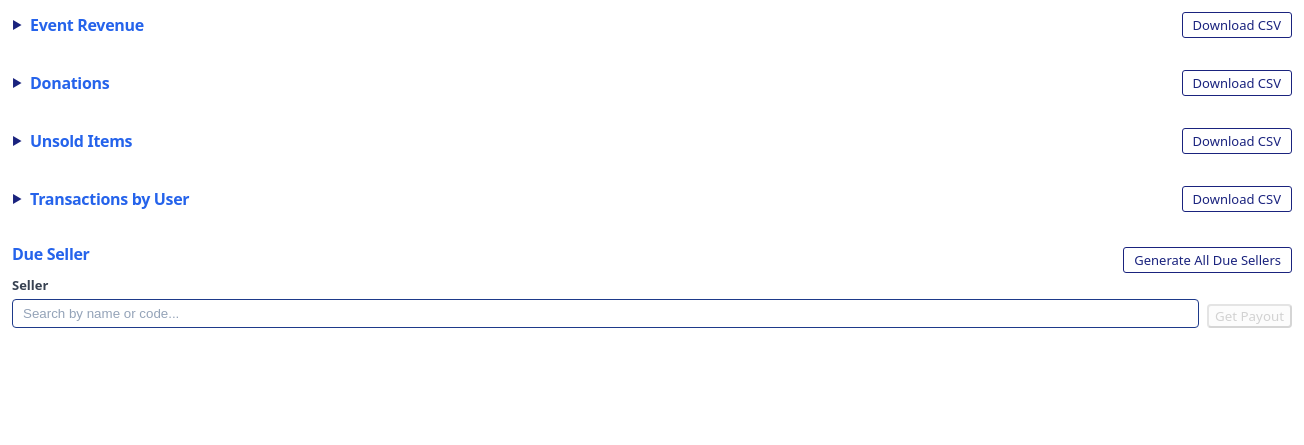
Scenario: ReportsPage › shows donations summary with items
Step 1. Click the heading "Donations" → (70, 83), box [30, 73, 109, 93]
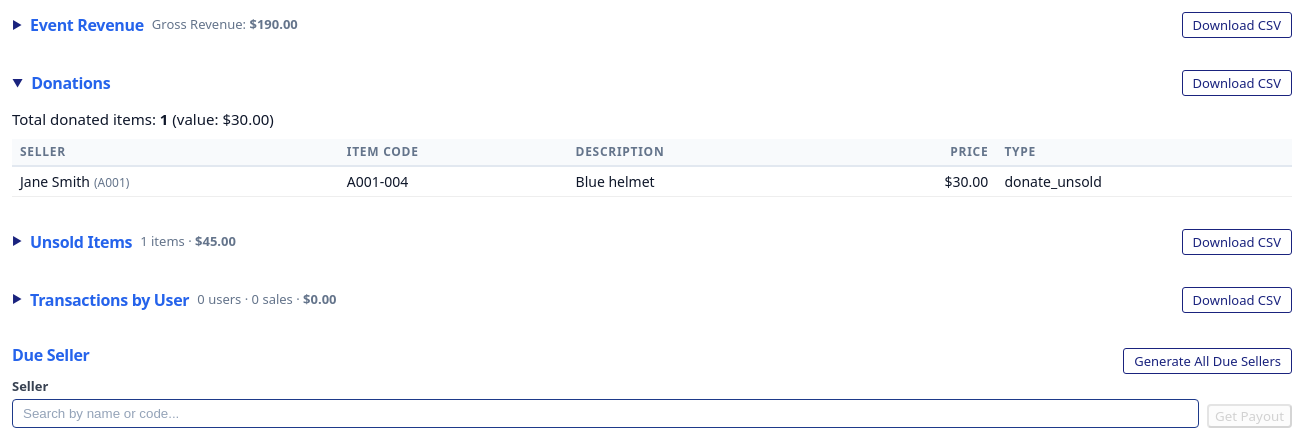
Check: the text "A001-004" is shown, box [339, 166, 568, 196]
Check: the text "Blue helmet" is shown, box [568, 166, 841, 196]
